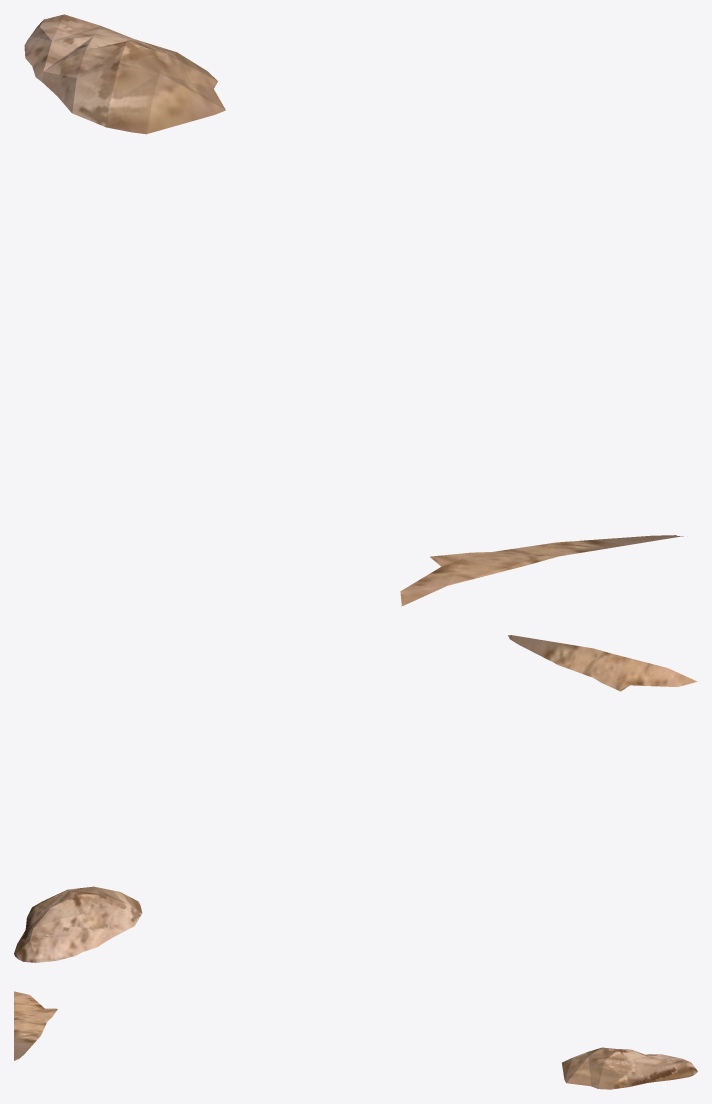
3 renders of one model, top to bottom at view 1: azimuth 30°, elevation 25°; view 2: azimuth 150°, elevation 25°; view 3: azimuth 270°, elevation 25°, orthographic. The views are drawn at different scales.
Bounding box in the file's own units: 0.314 × 0.0316 × 0.9233.
Materials: 1 (1 with a texture image).
